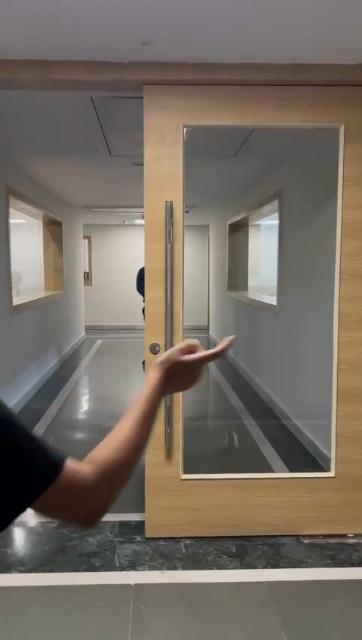door: (151, 88, 362, 533)
floor: (5, 548, 362, 635)
moving-obj: (0, 332, 240, 522)
wall: (95, 226, 137, 322), (67, 204, 85, 336)
